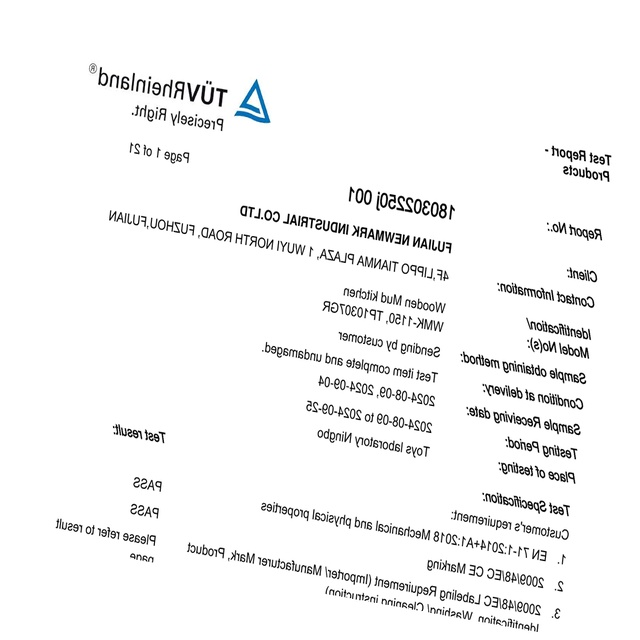tuv_rheinland: (86, 58, 273, 128)
